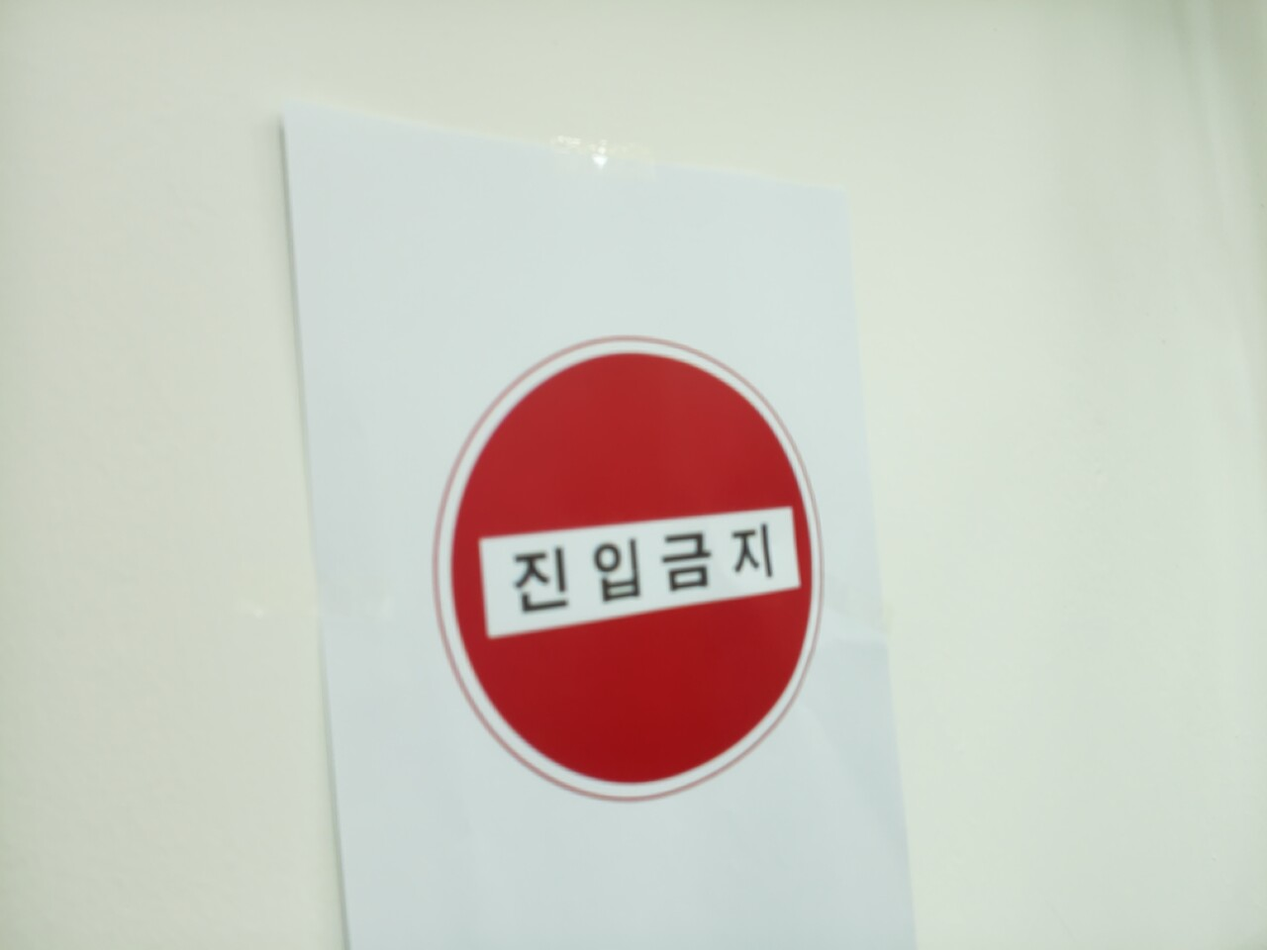do_not_enter: (439, 341, 824, 796)
